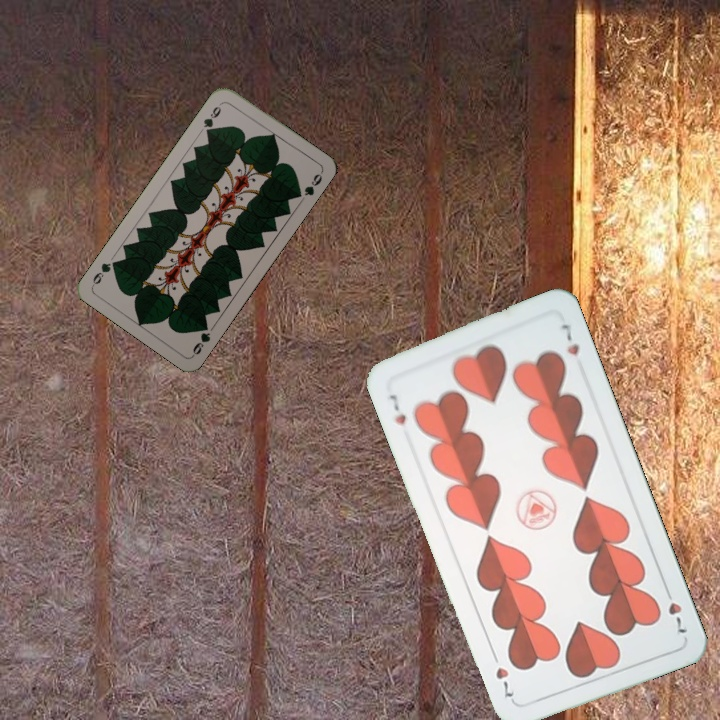G9: (199, 98, 225, 137), (189, 319, 213, 359)
H7: (660, 582, 690, 636), (385, 390, 409, 427)
